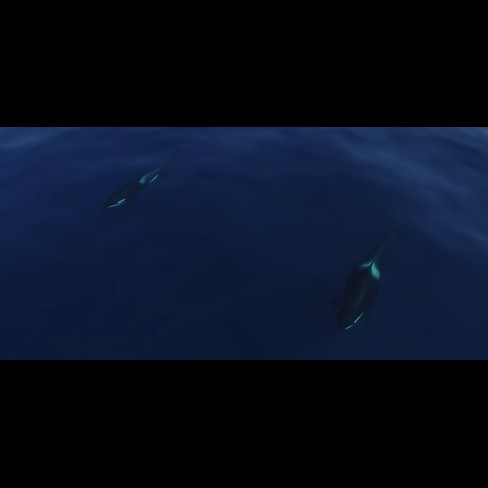orca: (332, 214, 414, 335), (95, 159, 172, 217)
